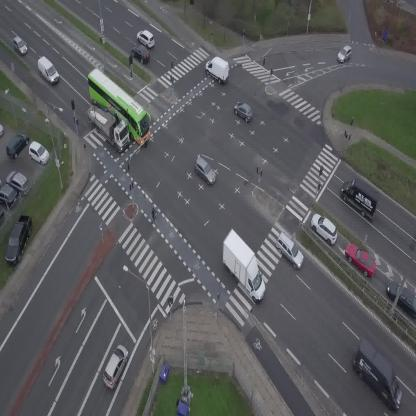bicycle: (149, 207, 160, 226)
bus: (77, 62, 161, 148)
car: (340, 237, 382, 281), (99, 343, 133, 390), (270, 232, 309, 271), (306, 209, 343, 247), (190, 156, 221, 186), (230, 98, 257, 123), (133, 26, 159, 51), (128, 41, 153, 67), (9, 34, 30, 58), (334, 44, 356, 65)
lorry: (209, 225, 279, 305), (80, 97, 138, 154), (333, 173, 387, 223), (200, 53, 235, 86), (33, 55, 63, 85)
